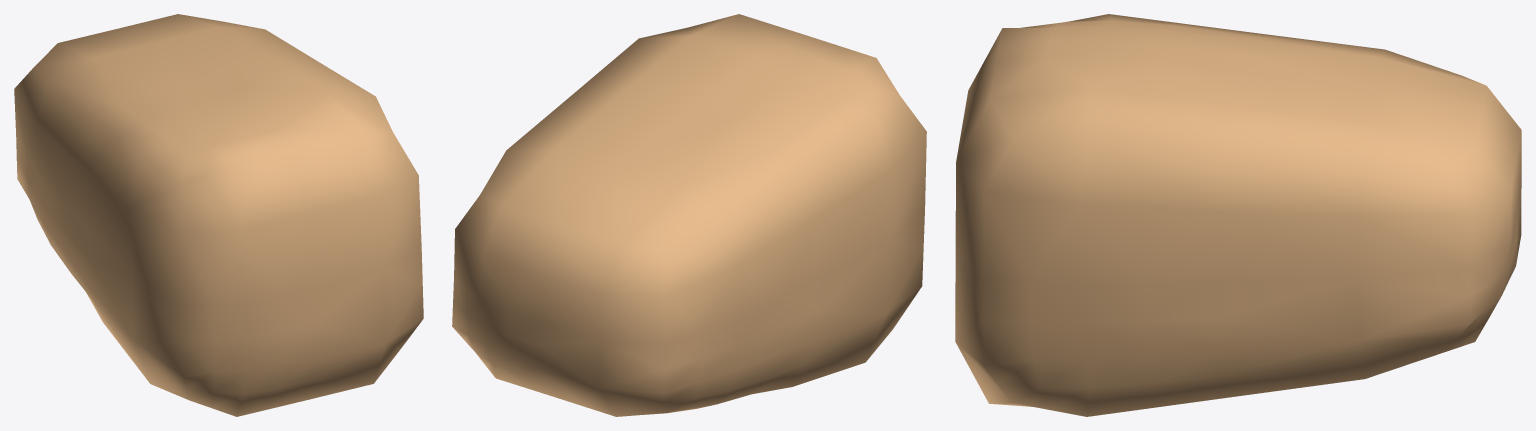
The model's file is middle_02_l.dae.
3 views of the same model, side by side, from view 1: azimuth 30°, elevation 25°; view 2: azimuth 150°, elevation 25°; view 3: azimuth 270°, elevation 25° (orthographic). The views are drawn at different scales.
Visible parts, largest first — view 1: skin_geo_middle_02_r; view 2: skin_geo_middle_02_r; view 3: skin_geo_middle_02_r.
Boxes of the visible parts, x1,y1,x2,y2 form: skin_geo_middle_02_r: [14, 14, 423, 416]; skin_geo_middle_02_r: [452, 14, 926, 416]; skin_geo_middle_02_r: [955, 14, 1521, 416].
Bounding box in the file's own units: 0.0221 × 0.0342 × 0.0215.
